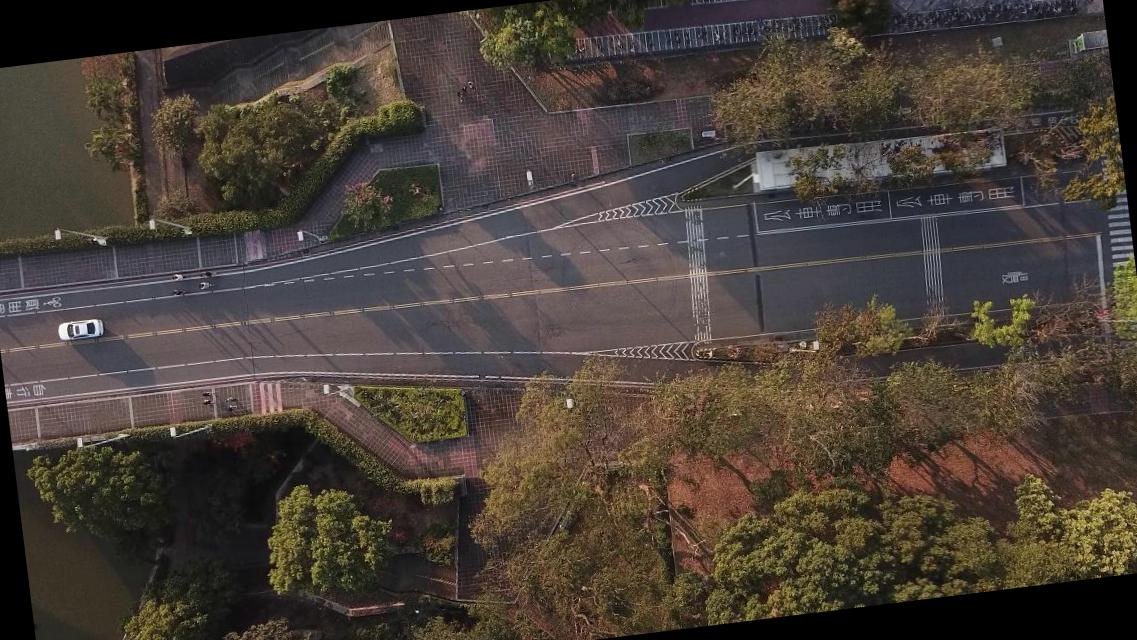vehicle: (57, 317, 104, 342)
